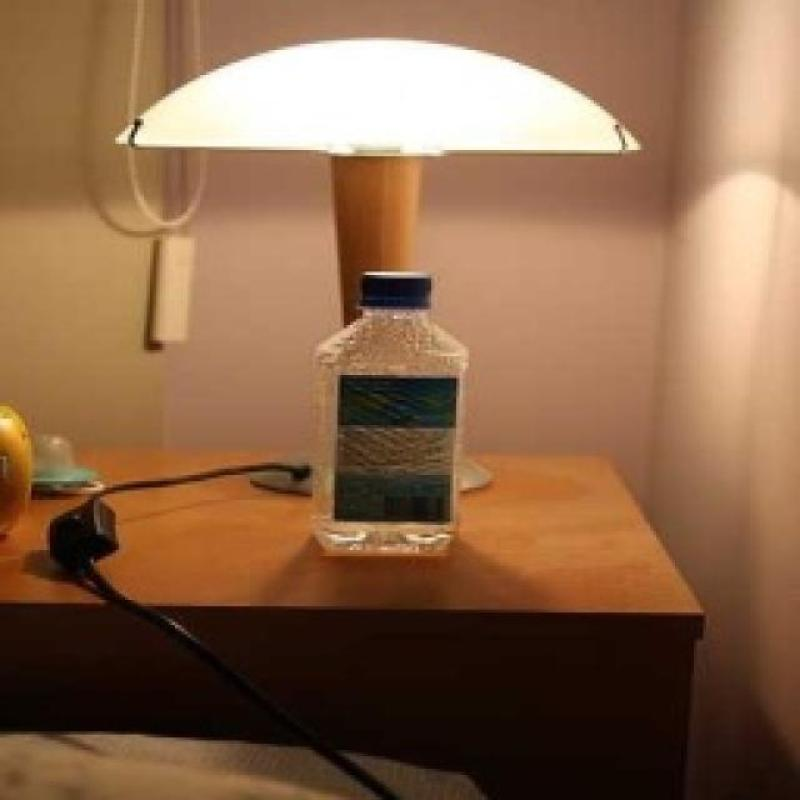botella: (318, 270, 472, 564)
